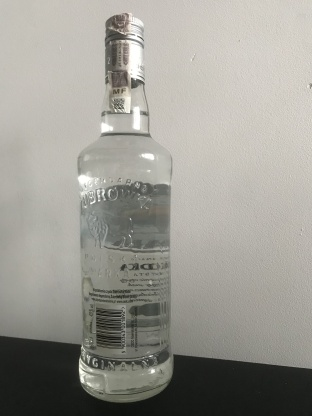nakretka: (102, 10, 147, 86)
